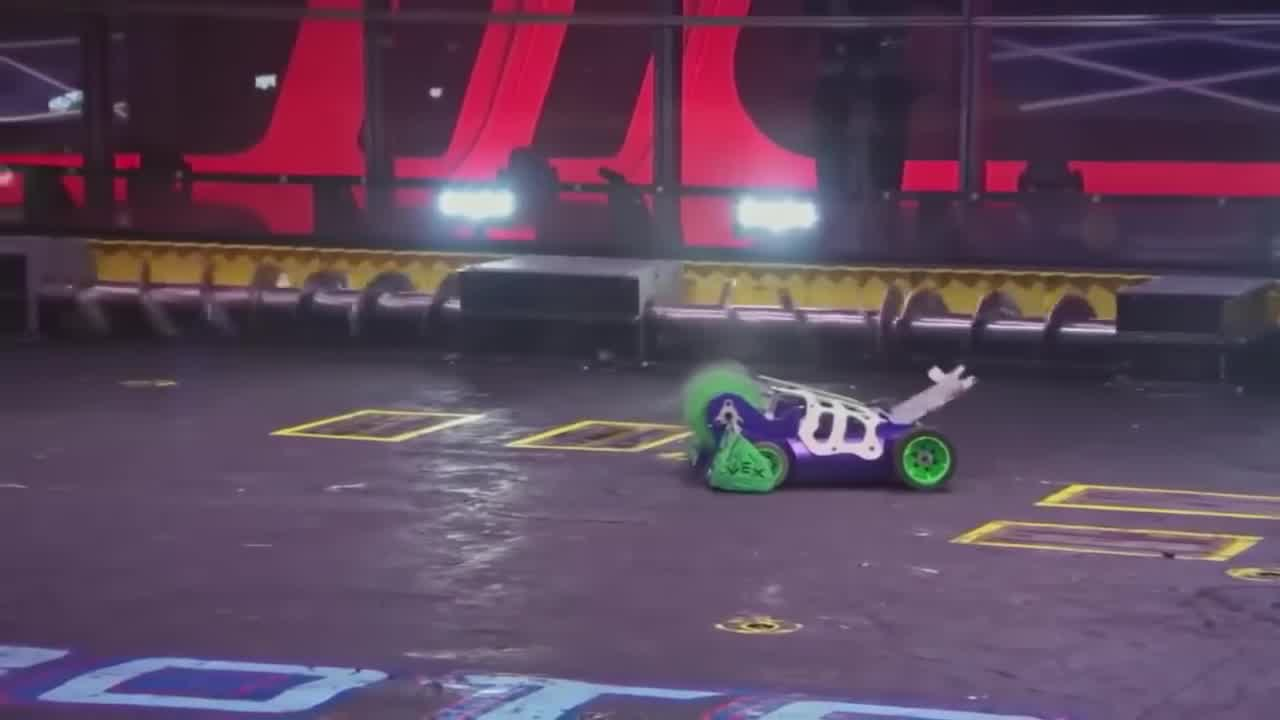combatbot: (675, 359, 977, 496)
